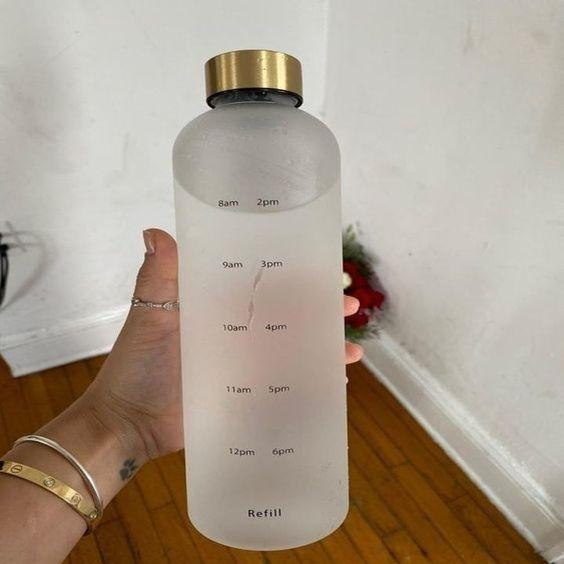gym bottle: (171, 46, 352, 553)
